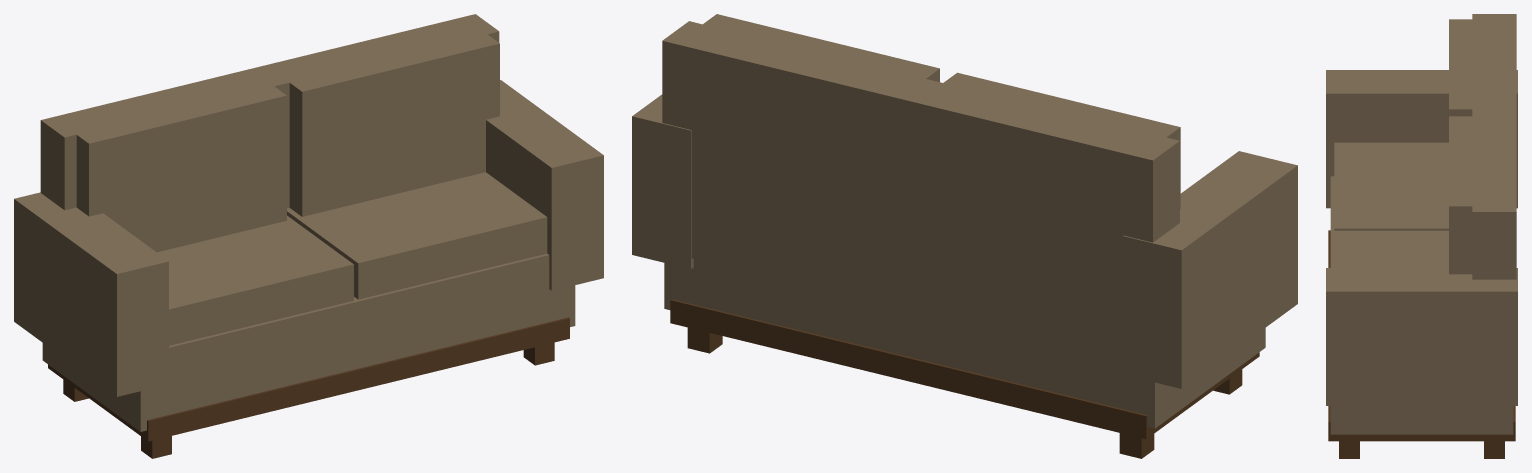
The model's file is sofa_80s.glb.
The picture shows the model from 3 angles, left to right: view 1: azimuth 30°, elevation 25°; view 2: azimuth 150°, elevation 25°; view 3: azimuth 270°, elevation 25°; orthographic projection. The views are drawn at different scales.
Parts seen in each view (by area): view 1: fabric__upholstered_base, fabric__back_cushion_right, cloth__back_cushion_left, fabric__left_arm, fabric__seat_cushion_right, cloth__seat_cushion_left, fabric__right_arm, fabric__back_shell, wood__lower_rail; view 2: fabric__back_shell, fabric__left_arm, fabric__upholstered_base, wood__lower_rail, fabric__right_arm, fabric__back_cushion_right, cloth__back_cushion_left, wood__short_wood_foot, _MeshInstance3D_116; view 3: fabric__right_arm, fabric__back_shell, cloth__seat_cushion_left, fabric__left_arm, fabric__upholstered_base, fabric__seat_cushion_right, fabric__back_cushion_right, cloth__back_cushion_left, wood__lower_rail, _MeshInstance3D_116, _MeshInstance3D_117.
Part boxes in pixels (bbox=[...]): fabric__upholstered_base: bbox=[42, 253, 575, 431]; fabric__back_cushion_right: bbox=[289, 31, 499, 216]; cloth__back_cushion_left: bbox=[76, 84, 286, 252]; fabric__left_arm: bbox=[14, 192, 168, 396]; fabric__seat_cushion_right: bbox=[287, 172, 547, 299]; cloth__seat_cushion_left: bbox=[157, 215, 353, 345]; fabric__right_arm: bbox=[486, 80, 603, 290]; fabric__back_shell: bbox=[40, 14, 499, 210]; wood__lower_rail: bbox=[48, 317, 569, 441]; fabric__back_shell: bbox=[662, 21, 1179, 363]; fabric__left_arm: bbox=[1123, 151, 1297, 388]; fabric__upholstered_base: bbox=[664, 259, 1265, 428]; wood__lower_rail: bbox=[670, 299, 1259, 439]; fabric__right_arm: bbox=[632, 94, 693, 269]; fabric__back_cushion_right: bbox=[699, 14, 939, 81]; cloth__back_cushion_left: bbox=[941, 72, 1180, 209]; wood__short_wood_foot: bbox=[1119, 433, 1154, 458]; _MeshInstance3D_116: bbox=[687, 327, 722, 353]; fabric__right_arm: bbox=[1326, 268, 1517, 405]; fabric__back_shell: bbox=[1472, 14, 1516, 279]; cloth__seat_cushion_left: bbox=[1334, 142, 1448, 230]; fabric__left_arm: bbox=[1326, 70, 1517, 208]; fabric__upholstered_base: bbox=[1330, 176, 1513, 434]; fabric__seat_cushion_right: bbox=[1334, 230, 1448, 267]; fabric__back_cushion_right: bbox=[1449, 116, 1478, 274]; cloth__back_cushion_left: bbox=[1449, 19, 1479, 116]; wood__lower_rail: bbox=[1328, 230, 1515, 441]; _MeshInstance3D_116: bbox=[1484, 441, 1504, 458]; _MeshInstance3D_117: bbox=[1339, 441, 1359, 458].
Bounding box in the file's own units: 2.24 × 1.2 × 0.82.
